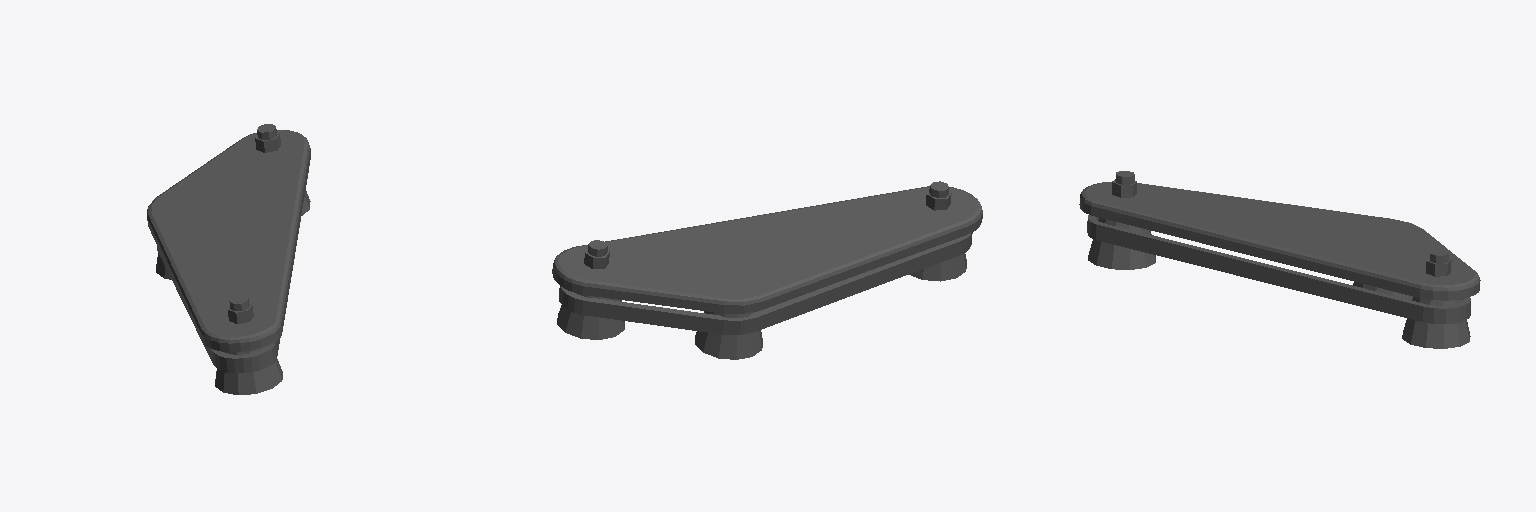
Rendered from MediumBumper.obj.
3 views of the same model, side by side, from view 1: azimuth 30°, elevation 25°; view 2: azimuth 150°, elevation 25°; view 3: azimuth 270°, elevation 25° (orthographic).
Visible parts, largest first — view 1: MediumBumper.004_Untitled.037; view 2: MediumBumper.004_Untitled.037; view 3: MediumBumper.004_Untitled.037.
Boxes of the visible parts, x1=… form: MediumBumper.004_Untitled.037: x1=147, y1=124, x2=310, y2=394; MediumBumper.004_Untitled.037: x1=552, y1=181, x2=982, y2=359; MediumBumper.004_Untitled.037: x1=1079, y1=171, x2=1480, y2=348.
Size of the model in its own units: 0.1341 by 0.0478 by 0.1794.